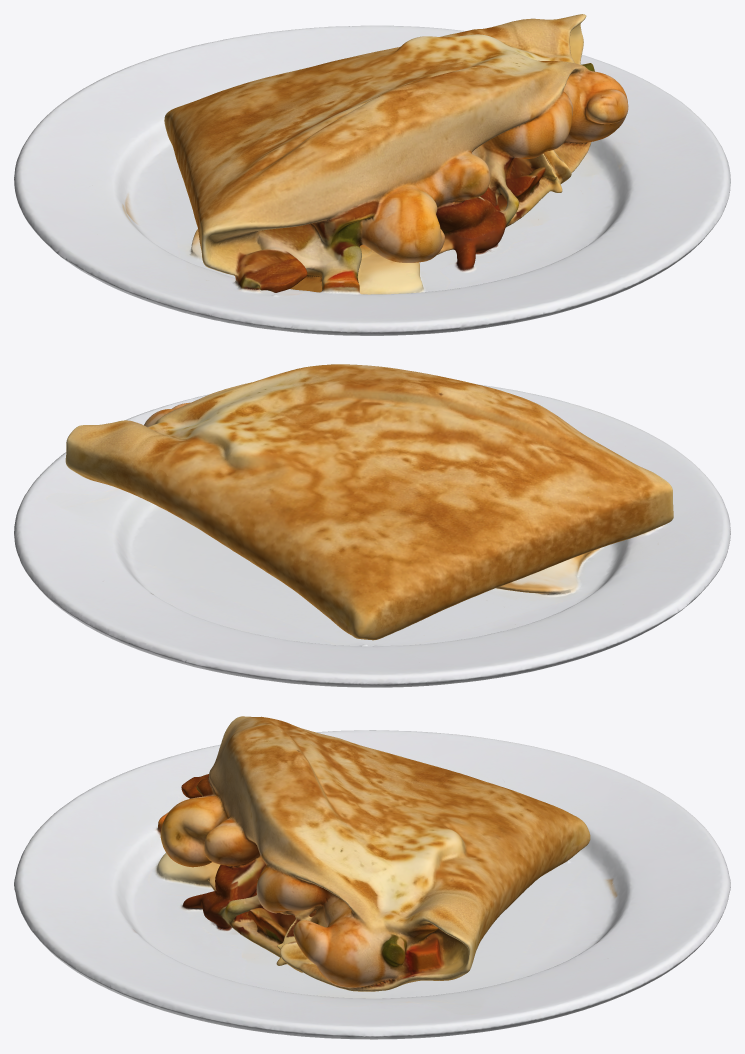
The model's file is Meshy_AI_Shrimp_Crepe_Delight_0919172015_texture.glb.
3 renders of one model, top to bottom at view 1: azimuth 30°, elevation 25°; view 2: azimuth 150°, elevation 25°; view 3: azimuth 270°, elevation 25°, orthographic.
Size of the model in its own units: 1.9 by 0.4714 by 1.9.
1 material, 1 textured.
